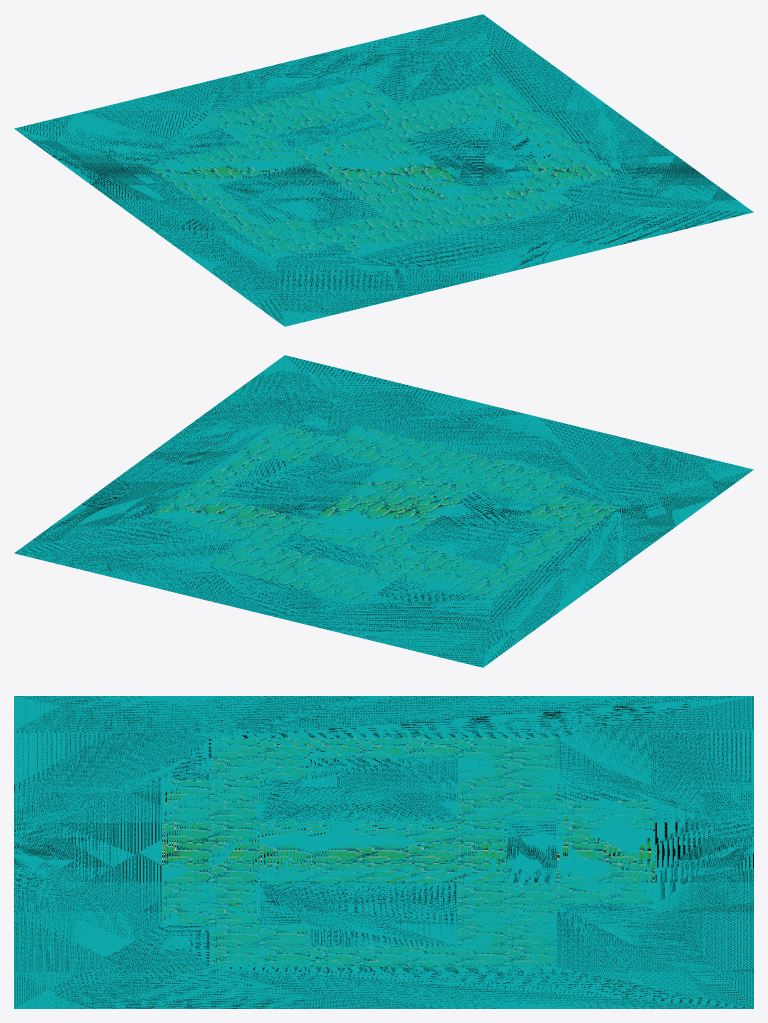
Rendered from Dungeon Floor Skull.fbx.
3 renders of one model, top to bottom at view 1: azimuth 30°, elevation 25°; view 2: azimuth 150°, elevation 25°; view 3: azimuth 270°, elevation 25°, orthographic. The views are drawn at different scales.
Parts seen in each view (by area): view 1: group_0, group_0.004, group_0.003, group_0.002, group_0.001; view 2: group_0, group_0.004, group_0.003, group_0.002, group_0.001; view 3: group_0, group_0.004, group_0.003, group_0.002, group_0.001.
Boxes of the visible parts, box(x1,y1,x2,y2) form: group_0: box(14, 14, 753, 326); group_0.004: box(149, 78, 618, 258); group_0.003: box(216, 162, 381, 229); group_0.002: box(404, 116, 551, 191); group_0.001: box(274, 113, 385, 148); group_0: box(14, 355, 753, 667); group_0.004: box(149, 423, 618, 603); group_0.003: box(404, 490, 551, 565); group_0.002: box(216, 452, 381, 519); group_0.001: box(274, 533, 385, 568); group_0: box(14, 696, 753, 1008); group_0.004: box(162, 737, 655, 967); group_0.003: box(260, 758, 457, 821); group_0.002: box(260, 883, 457, 946); group_0.001: box(507, 821, 556, 883).
Size of the model in its own units: 1500 by 0.000244 by 1500.
